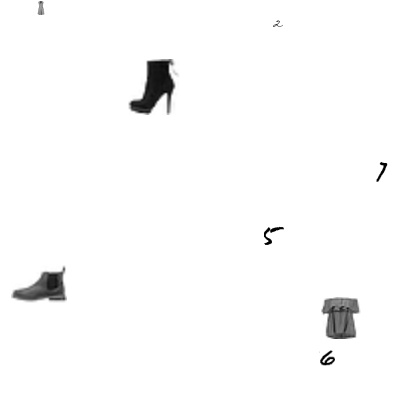2: (270, 17, 284, 31)
5: (257, 220, 285, 248)
6: (316, 348, 338, 370)
7: (368, 156, 396, 184)
Ankle_boot: (125, 59, 181, 115), (11, 256, 67, 312)
Dress: (34, 1, 48, 15)
Shirt: (320, 297, 362, 339)
